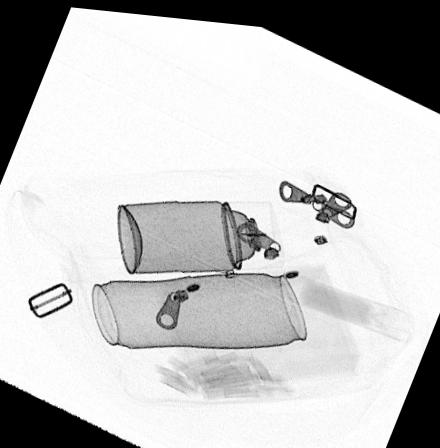Sprayer: (116, 193, 288, 271)
